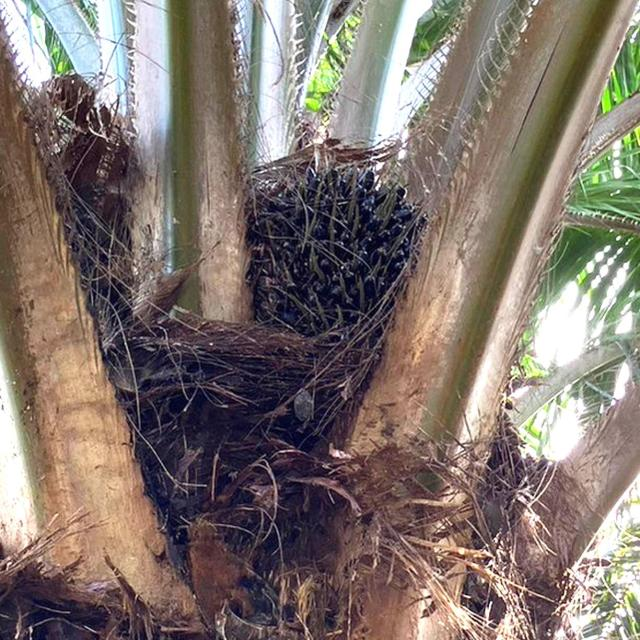unripe: (230, 145, 446, 372)
